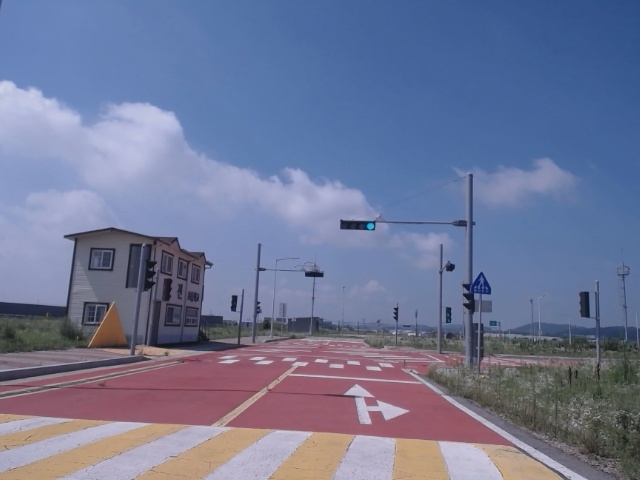straight_green_4: (339, 222, 375, 230)
